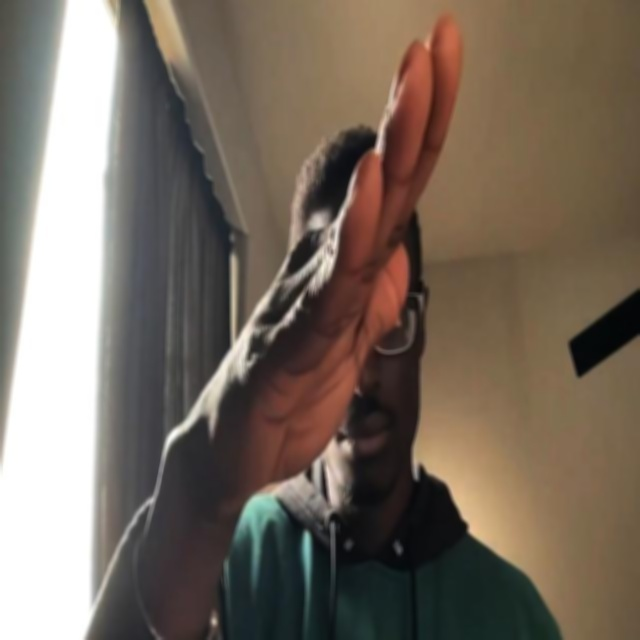Paper: (173, 13, 464, 516)
